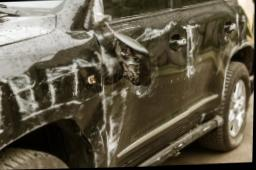Door: (102, 8, 198, 168), (194, 0, 247, 137)
Fender: (0, 33, 106, 170)
